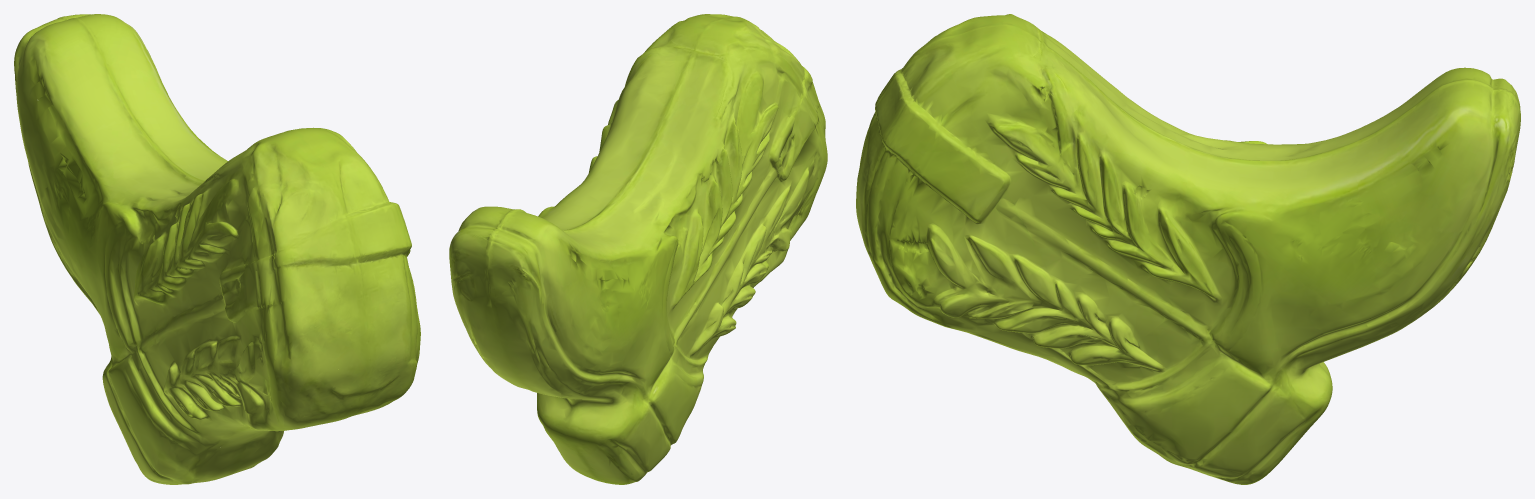
File: jelly_balance_lime.glb
The picture shows the model from 3 angles, left to right: view 1: azimuth 30°, elevation 25°; view 2: azimuth 150°, elevation 25°; view 3: azimuth 270°, elevation 25°; orthographic projection. The views are drawn at different scales.
Visible parts, largest first — view 1: tripo_node_87d36027-912e-43bc-9478-430981e79f78; view 2: tripo_node_87d36027-912e-43bc-9478-430981e79f78; view 3: tripo_node_87d36027-912e-43bc-9478-430981e79f78.
Part boxes in pixels (x1=…): tripo_node_87d36027-912e-43bc-9478-430981e79f78: x1=14, y1=14, x2=420, y2=484; tripo_node_87d36027-912e-43bc-9478-430981e79f78: x1=449, y1=14, x2=827, y2=484; tripo_node_87d36027-912e-43bc-9478-430981e79f78: x1=856, y1=14, x2=1520, y2=484.
Size of the model in its own units: 0.282 by 0.7339 by 0.9792.
Materials: 1 (1 with a texture image).
